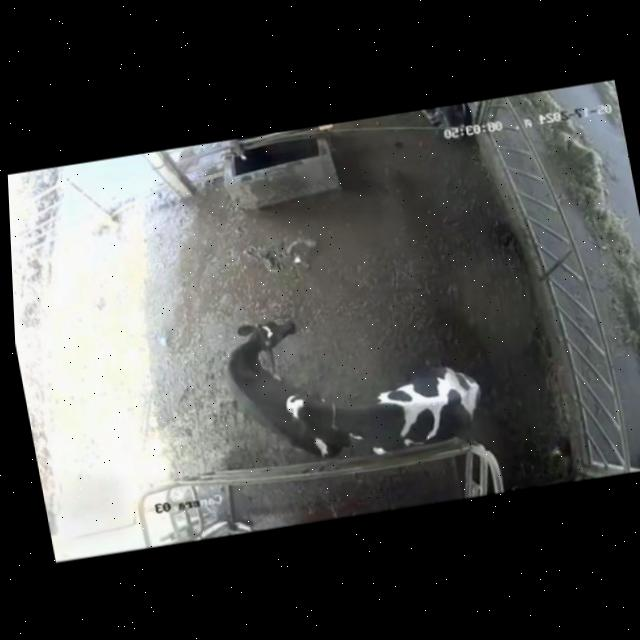propping: (262, 374, 371, 469)
stand: (190, 293, 357, 477)
